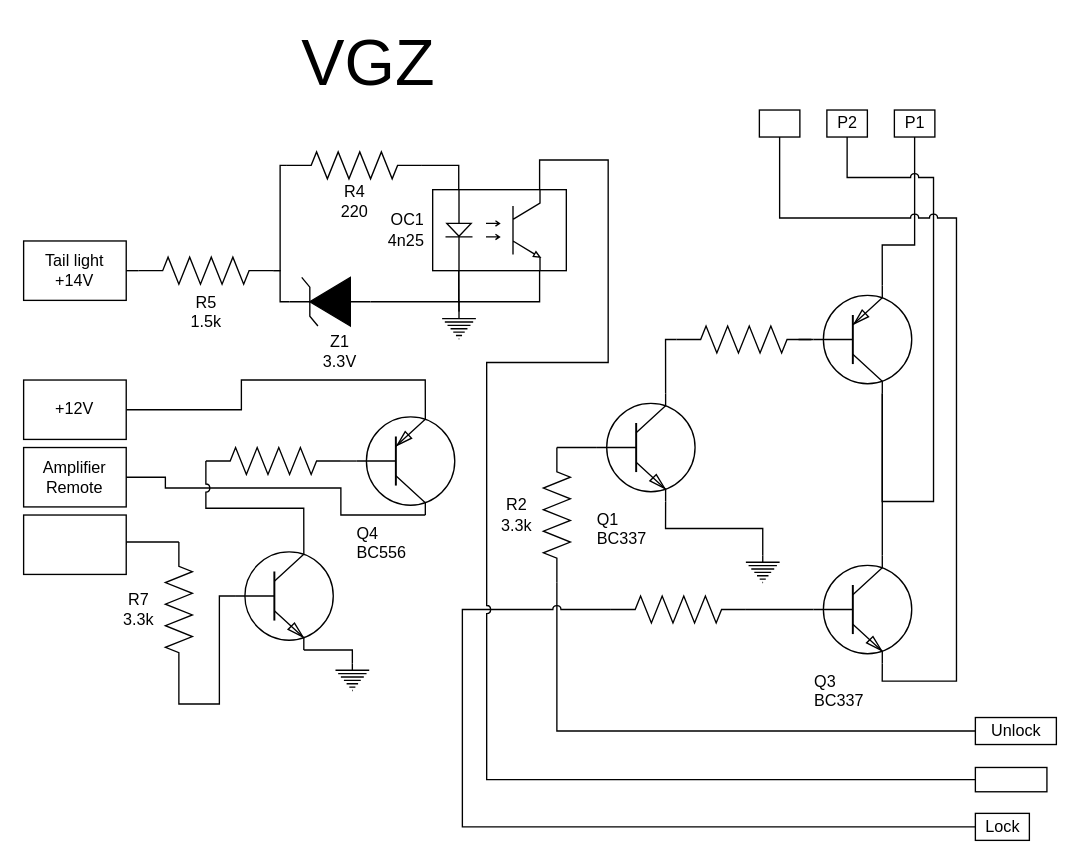
Some shapes in this 1080 by 864 pixel diagram are drawn without their labels. The centre of each missing label's shape, as x and y in pixels:
"Bass On/Off" goes at (74,544).
"Engine" goes at (1010,779).
"P4" goes at (779,123).
"Q2 BC556" goes at (862,339).
"Q5 BC337" goes at (283,595).
"R1 3.3k" goes at (743,339).
"R3 3.3k" goes at (678,609).
"R6 3.3k" goes at (273,460).
